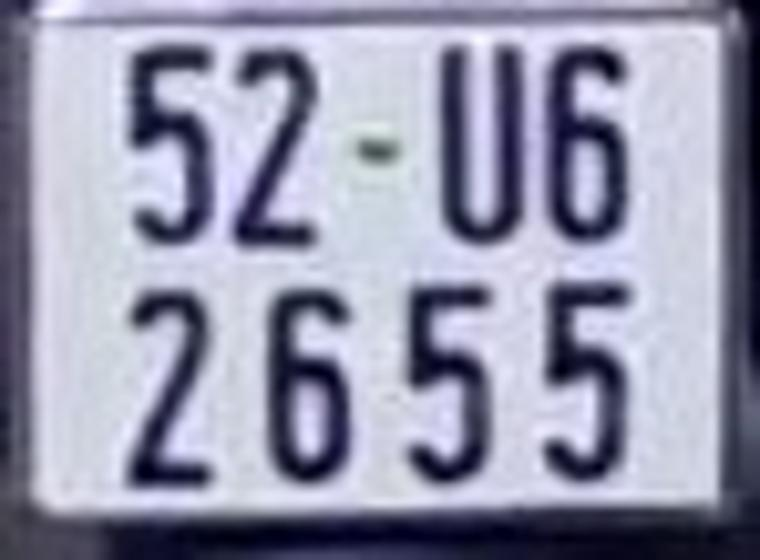-: (358, 135, 394, 159)
2: (128, 288, 209, 485), (237, 50, 313, 240)
5: (544, 277, 629, 486), (408, 285, 490, 479), (131, 46, 212, 239)
6: (264, 290, 349, 482), (546, 44, 625, 236)
U: (439, 43, 522, 235)
